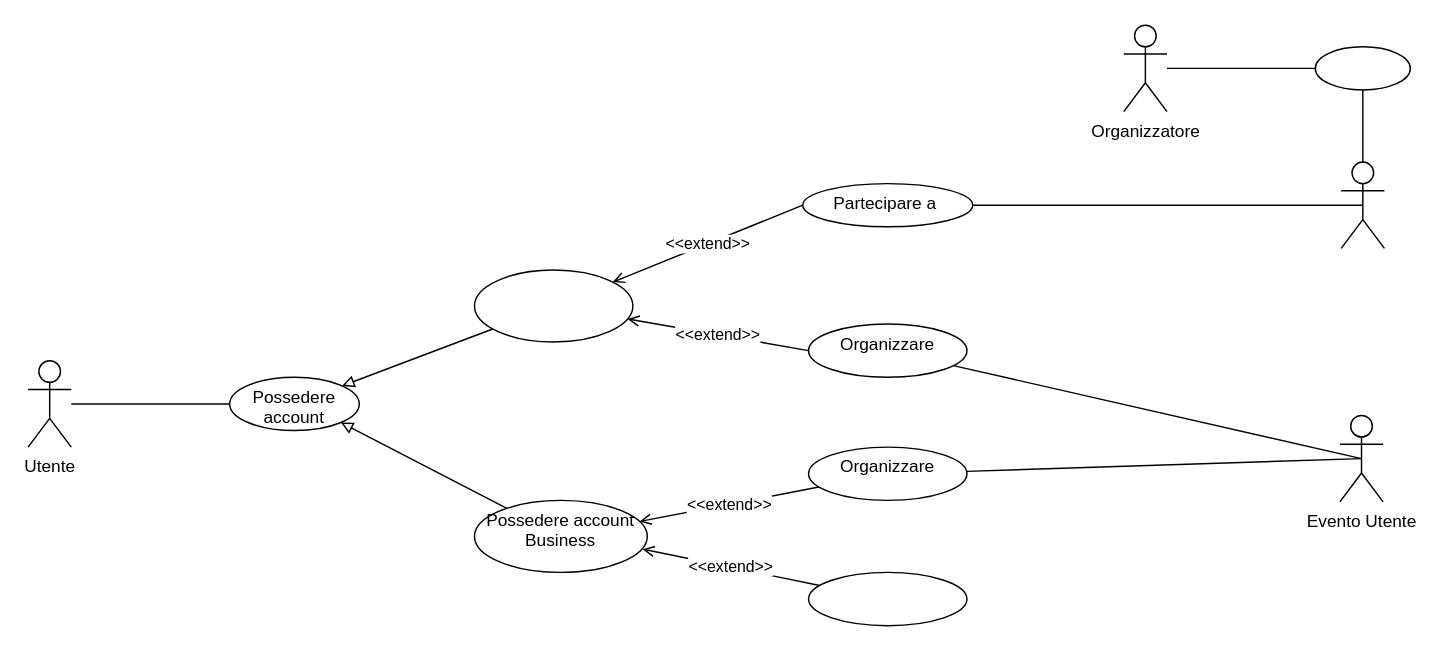
Some shapes in this 1443 by 651 pixel diagram are drawn without their labels. The shapes that lost their labels are listed below. From the top down, each one's box as (x1, y1, x2, y2) in pixels, then its label:
(1314, 45, 1410, 90): Creare
(1340, 161, 1384, 248): Evento di terzi
(473, 269, 633, 342): Possedere account Personale
(807, 571, 967, 626): Visualizzare statistiche
